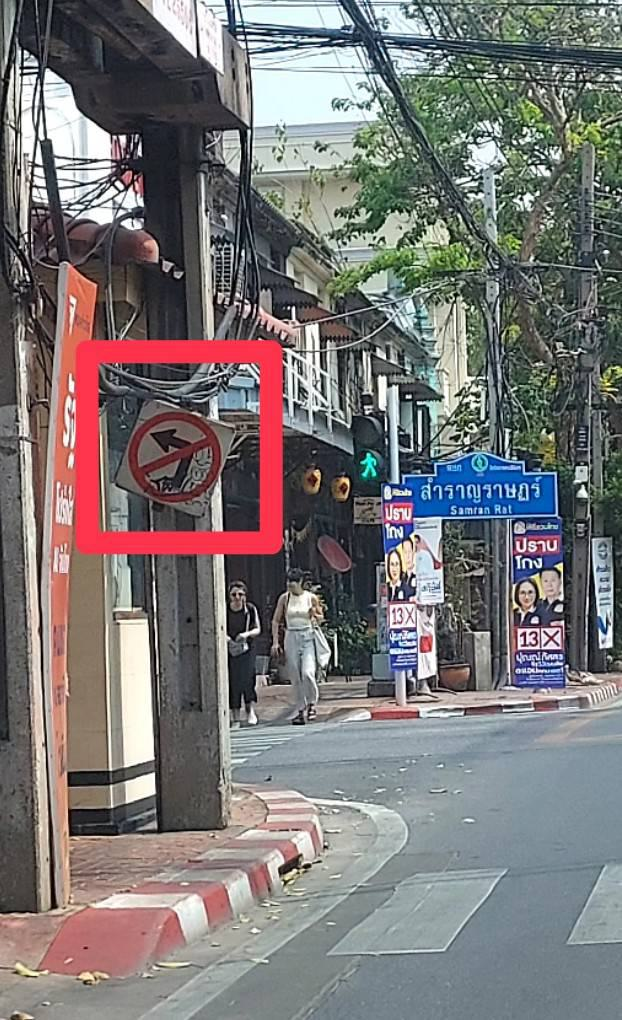Banner: (503, 513, 568, 681), (382, 486, 410, 689)
